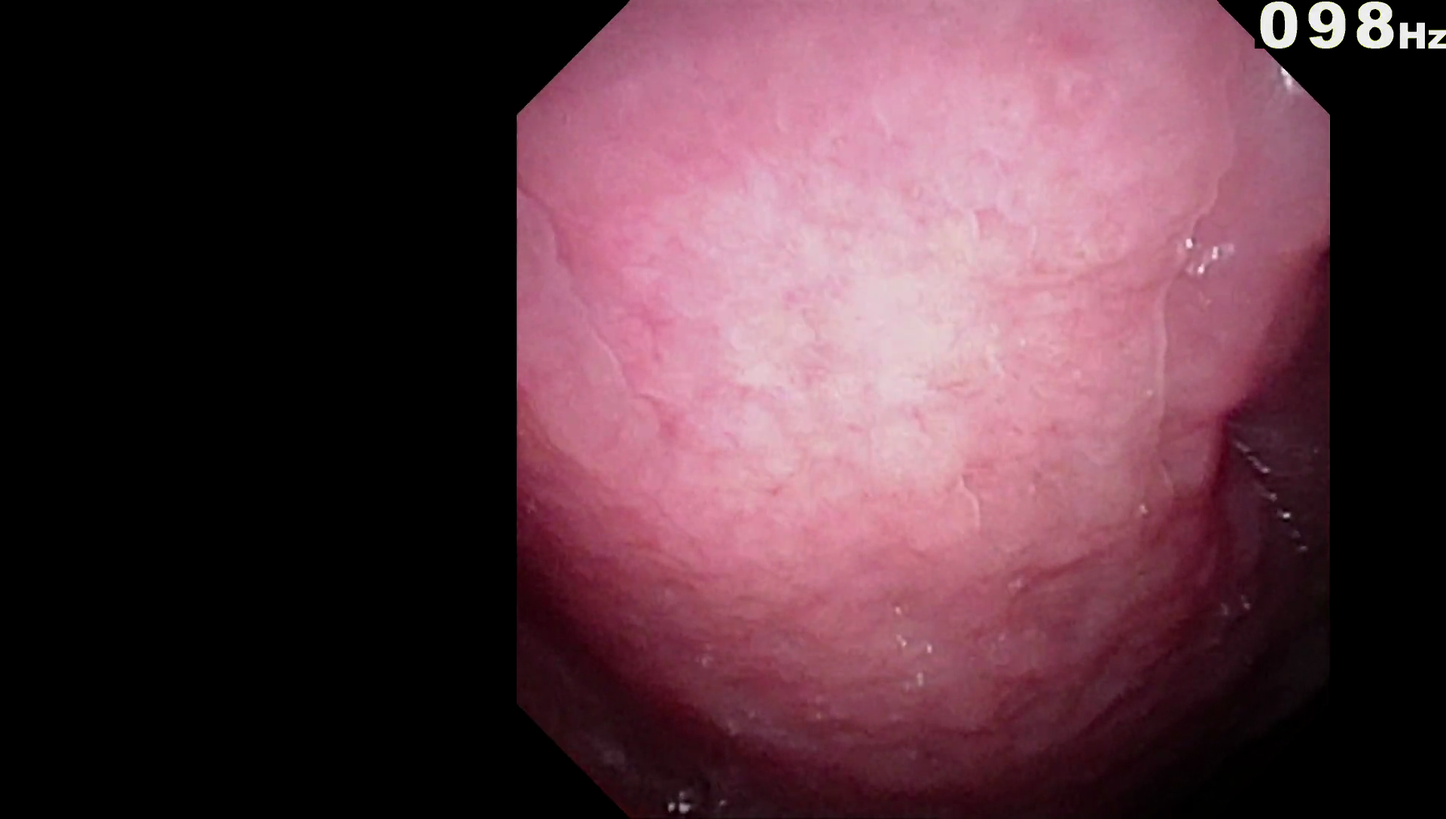close_wall: (565, 66, 1264, 610)
next: (1049, 629, 1299, 809)
